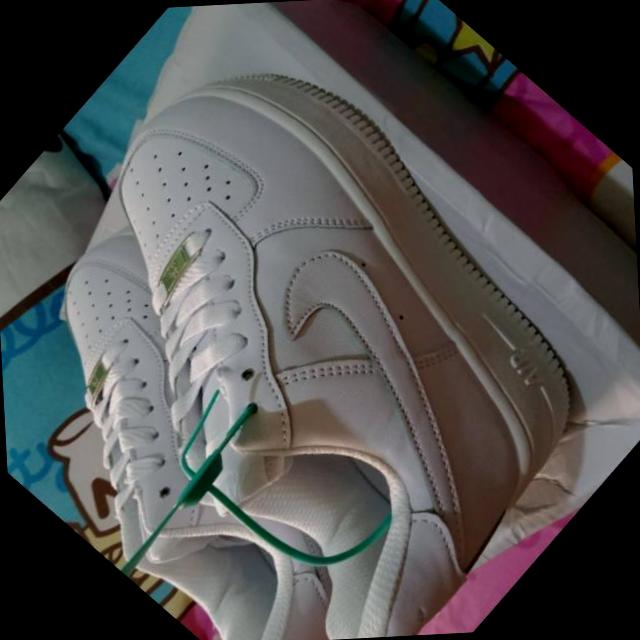nike_fake_airforce: (0, 0, 640, 640), (0, 198, 458, 640)
